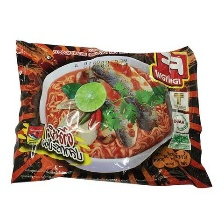snack: (5, 33, 217, 193)
